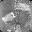people: (1, 12, 16, 24)
